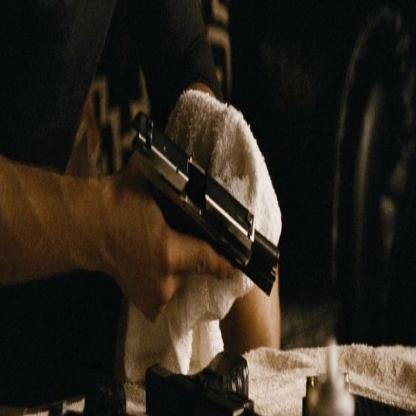gun: (128, 75, 298, 299)
